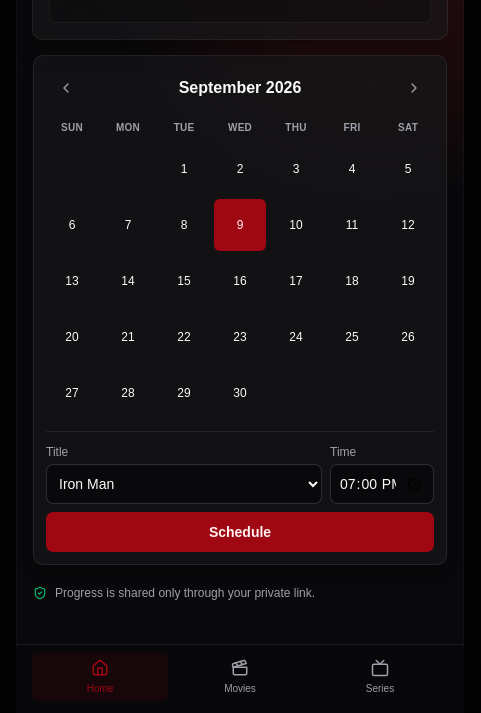
Test: save success feedback › stays silent when a scheduling attempt from the home calendar fails
(page scrolled)
Click the button "Schedule" at (240, 532), box [46,512,434,552]
(page scrolled)
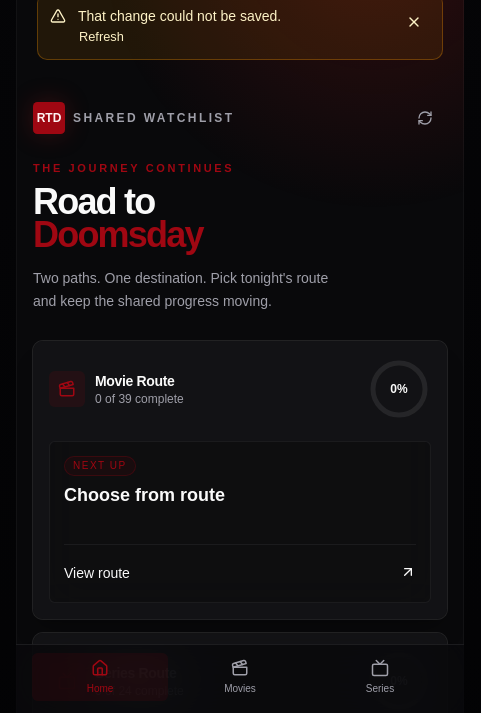
Now the message shows "That change could not be saved", box [78,8,281,24]
